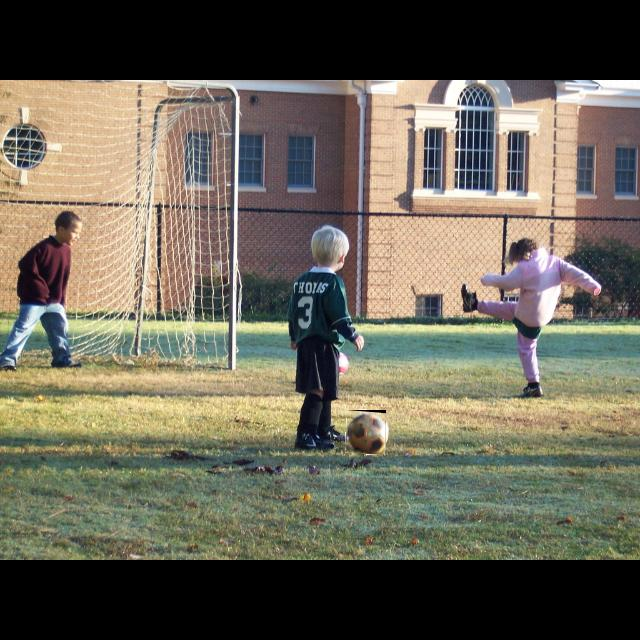Football: (346, 410, 386, 454)
